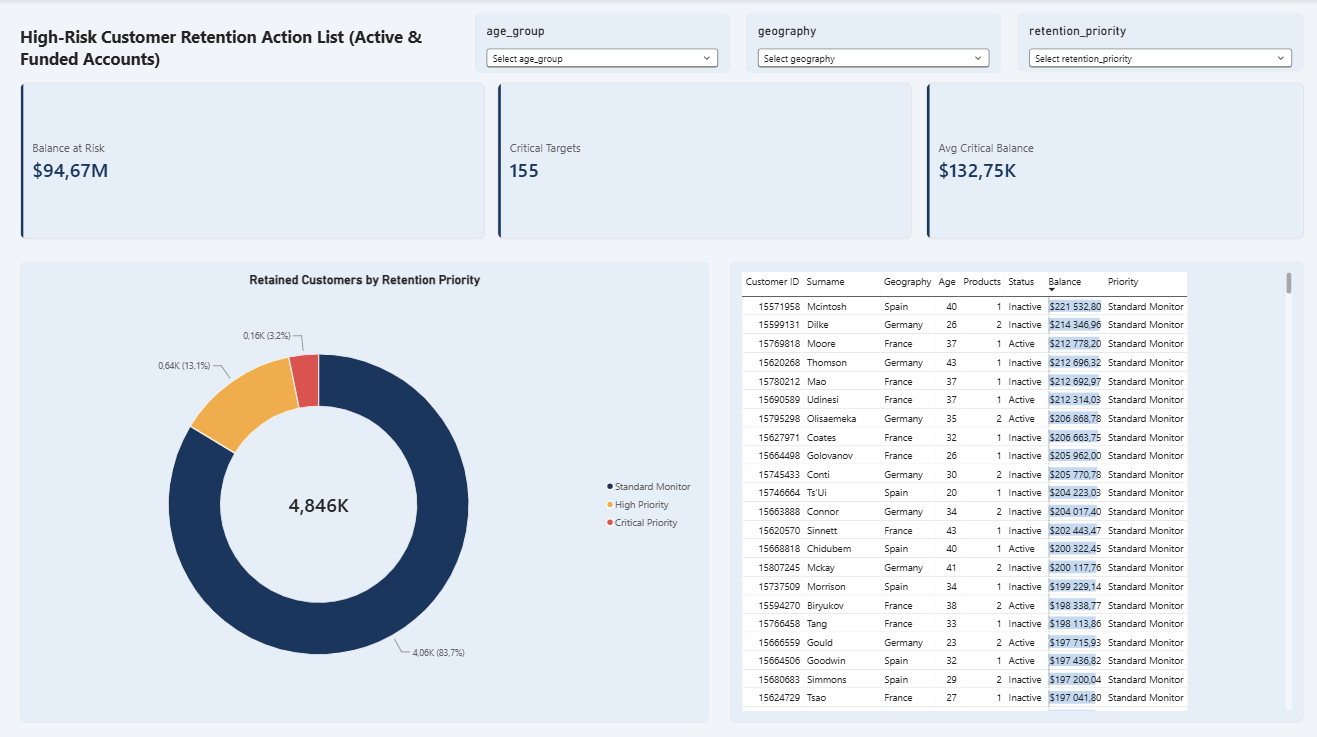

The dashboard page shown, as its layout file describes it:
{"tool":"powerbi","page":{"name":"Retention Action Targets","canvas":[1920,1080],"ordinal":1},"visuals":[{"type":"textbox","box":[29,19.9,640.6,86.9],"z":0},{"type":"listSlicer","fields":{"Values":["vw_retention_targets.retention_priority"]},"box":[1473.1,19.9,414.4,85.1],"z":1000},{"type":"listSlicer","fields":{"Values":["vw_retention_targets.geography"]},"box":[1080.4,19.9,369.2,86.9],"z":2000},{"type":"listSlicer","fields":{"Values":["vw_retention_targets.age_group"]},"box":[687.7,19.9,369.2,86.9],"z":3000},{"type":"cardVisual","fields":{"Data":["_Measures.Balance at Risk"]},"box":[29,121.2,673.2,226.2],"z":4000},{"type":"cardVisual","fields":{"Data":["_Measures.Avg Critical Balance"]},"box":[1341,121.2,546.5,226.2],"z":5000},{"type":"cardVisual","fields":{"Data":["_Measures.Critical Targets"]},"box":[720.2,121.2,599,226.2],"z":6000},{"type":"donutChart","title":"Retained Customers by Retention Priority","fields":{"Category":["vw_retention_targets.retention_priority"],"Y":["CountNonNull(vw_retention_targets.customer_id)"]},"box":[29,380,997.1,667.8],"z":7000},{"type":"tableEx","fields":{"Values":["vw_retention_targets.customer_id","vw_retention_targets.surname","vw_retention_targets.geography","vw_retention_targets.age","vw_retention_targets.num_of_products","vw_retention_targets.activity_status","Sum(vw_retention_targets.balance)","vw_retention_targets.retention_priority"]},"box":[1056.8,380,830.6,667.8],"z":8000}]}

Visuals, with their boxes in screenshot pixels (x1, y1, x2, y2), scaled from the page's 1920x1080 canvas onto the 1317x737 screenshot:
textbox: <region>20, 14, 459, 73</region>
listSlicer - vw_retention_targets.retention_priority: <region>1010, 14, 1295, 72</region>
listSlicer - vw_retention_targets.geography: <region>741, 14, 994, 73</region>
listSlicer - vw_retention_targets.age_group: <region>472, 14, 725, 73</region>
cardVisual - _Measures.Balance at Risk: <region>20, 83, 482, 237</region>
cardVisual - _Measures.Avg Critical Balance: <region>920, 83, 1295, 237</region>
cardVisual - _Measures.Critical Targets: <region>494, 83, 905, 237</region>
"Retained Customers by Retention Priority" donutChart: <region>20, 259, 704, 715</region>
tableEx - vw_retention_targets.customer_id x vw_retention_targets.surname: <region>725, 259, 1295, 715</region>
